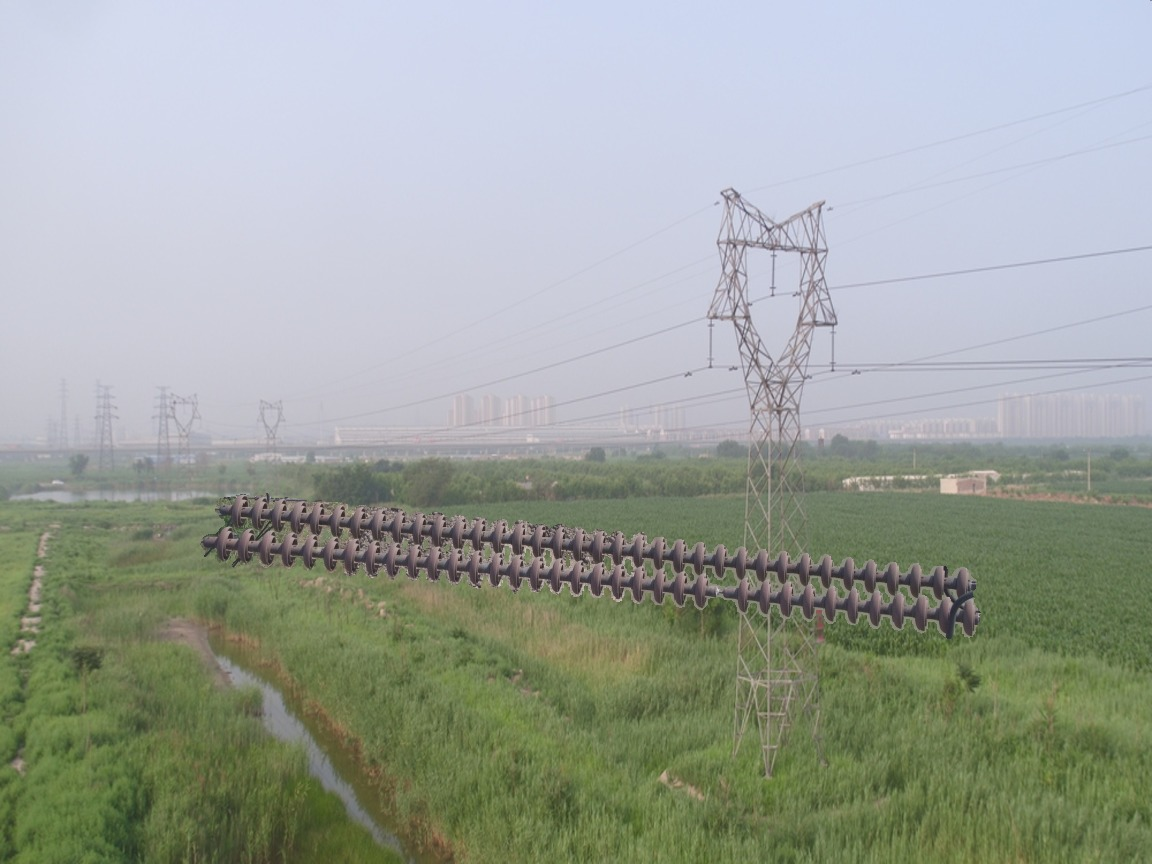defect: (684, 569, 760, 613)
